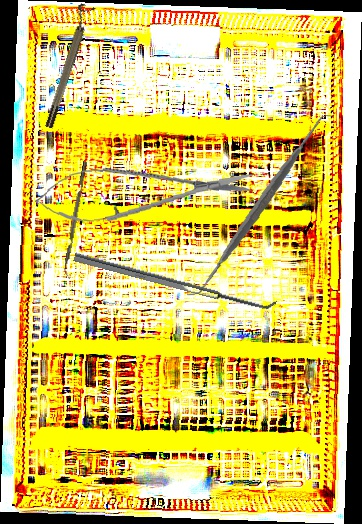Chopper: (60, 161, 93, 279)
Fixation Ring: (37, 2, 97, 130)
Micro Scissor: (32, 153, 257, 230)
Spatula Surgical: (172, 114, 348, 297), (73, 244, 278, 315)
